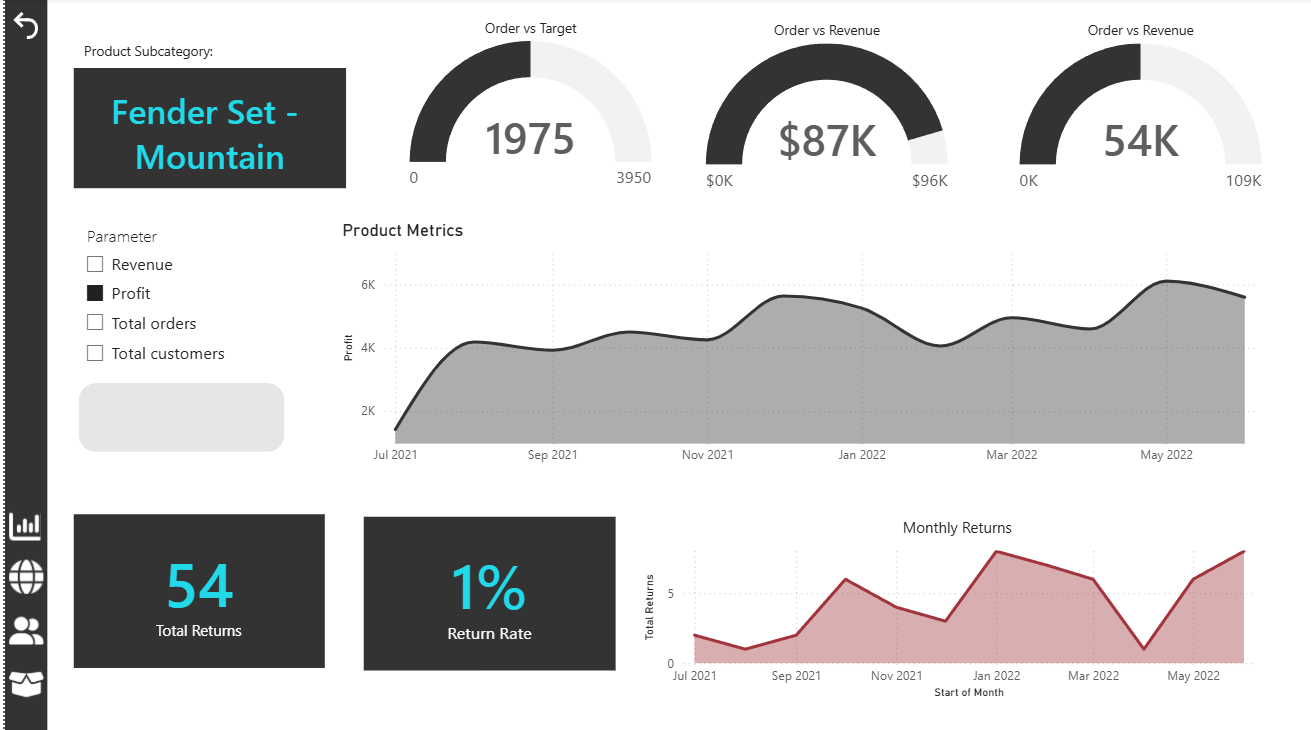

This screenshot's page, from the dashboard's own definition file:
{"tool":"powerbi","page":{"name":"Product details","canvas":[1280,720],"ordinal":3},"visuals":[{"type":"shape","box":[0,0,41.4,720],"z":0},{"type":"card","fields":{"Values":["Min(Product Lookup.ProductName)"]},"box":[67.5,67.5,266.2,117.5],"z":0,"group":"g1"},{"type":"gauge","title":"Order vs Target","fields":{"Y":["Measure Table.Total orders"],"TargetValue":["Measure Table.Order Target"]},"box":[368.8,20,290,177.5],"z":1000},{"type":"textbox","box":[72.5,37.5,162.5,37.5],"z":1000,"group":"g1"},{"type":"gauge","title":"Order vs Revenue ","fields":{"Y":["Measure Table.Revenue"],"MaxValue":["Measure Table.Revenue Target"]},"box":[658.8,22.5,290,177.5],"z":2000},{"type":"gauge","title":"Order vs Revenue ","fields":{"Y":["Measure Table.Profit"],"TargetValue":["Measure Table.Profit Target"]},"box":[966.2,22.5,290,177.5],"z":3000},{"type":"actionButton","box":[2.5,8.8,41.2,36.2],"z":4000},{"type":"actionButton","box":[0,497.8,41.8,39],"z":5000},{"type":"actionButton","box":[0,526.6,41.8,77.9],"z":6000},{"type":"actionButton","box":[0,580,41.8,77.9],"z":7000},{"type":"actionButton","box":[0,631.9,41.8,77.9],"z":8000},{"type":"lineChart","title":"Product Metrics","fields":{"Y":["Measure Table.Profit"],"Category":["Calendar Lookup.Date hirerarchy.Start of Month"]},"box":[325,216.2,918.8,248.8],"z":9000},{"type":"slicer","fields":{"Values":["Parameter.Parameter"]},"box":[67.5,216.2,245,248.8],"z":10000},{"type":"group","id":"g1","title":"Group 1","box":[67.5,37.5,266.2,147.5],"z":11000},{"type":"shape","box":[72.5,376.2,201.2,67.5],"z":12000},{"type":"card","fields":{"Values":["Measure Table.Total Returns"]},"box":[67.8,505,245.3,150],"z":13000},{"type":"card","fields":{"Values":["Measure Table.Return Rate"]},"box":[350.6,507.9,246.7,150],"z":14000},{"type":"areaChart","title":"Monthly Returns","fields":{"Category":["Calendar Lookup.Date hirerarchy.Start of Month"],"Y":["Measure Table.Total Returns"]},"box":[620.4,507.9,623.3,183.2],"z":15000}]}

Visuals, with their boxes on the page's 1280x720 design canvas (x1, y1, x2, y2). These are canvas units, not pixel positions in the 1311x730 screenshot, which may show the page scaled, cropped or inside an application window:
shape: <region>0, 0, 41, 720</region>
card - Min(Product Lookup.ProductName): <region>68, 68, 334, 185</region>
"Order vs Target" gauge: <region>369, 20, 659, 198</region>
textbox: <region>72, 38, 235, 75</region>
"Order vs Revenue " gauge: <region>659, 22, 949, 200</region>
"Order vs Revenue " gauge: <region>966, 22, 1256, 200</region>
actionButton: <region>2, 9, 44, 45</region>
actionButton: <region>0, 498, 42, 537</region>
actionButton: <region>0, 527, 42, 604</region>
actionButton: <region>0, 580, 42, 658</region>
actionButton: <region>0, 632, 42, 710</region>
"Product Metrics" lineChart: <region>325, 216, 1244, 465</region>
slicer - Parameter.Parameter: <region>68, 216, 312, 465</region>
"Group 1" group: <region>68, 38, 334, 185</region>
shape: <region>72, 376, 274, 444</region>
card - Measure Table.Total Returns: <region>68, 505, 313, 655</region>
card - Measure Table.Return Rate: <region>351, 508, 597, 658</region>
"Monthly Returns" areaChart: <region>620, 508, 1244, 691</region>
